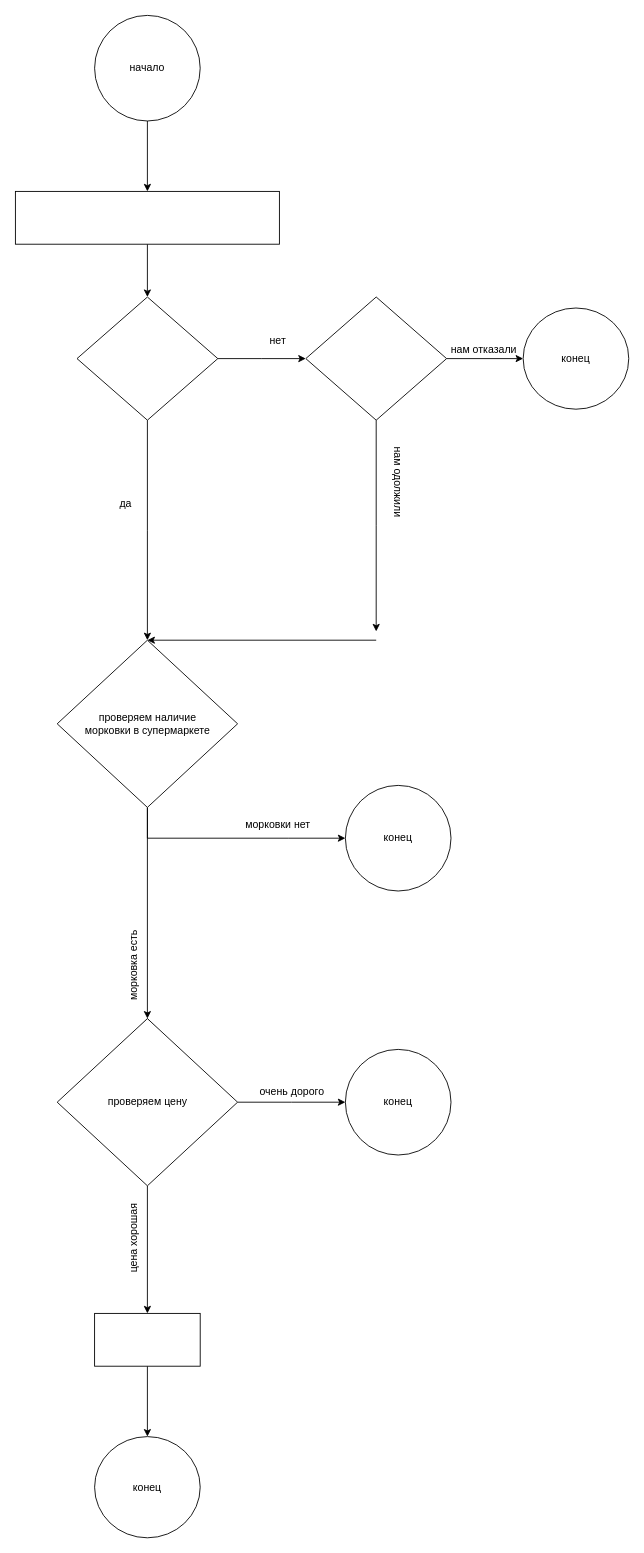
Some shapes in this 644 by 1553 pixel diagram are drawn without their labels. The centre of each missing label's shape, as x and y in pixels:
имеем достаточно денег для покупки: [147,358]
пвтаемся одолжить: [376,358]
покупаем: [147,1339]
хотим купить морковку: [147,217]
